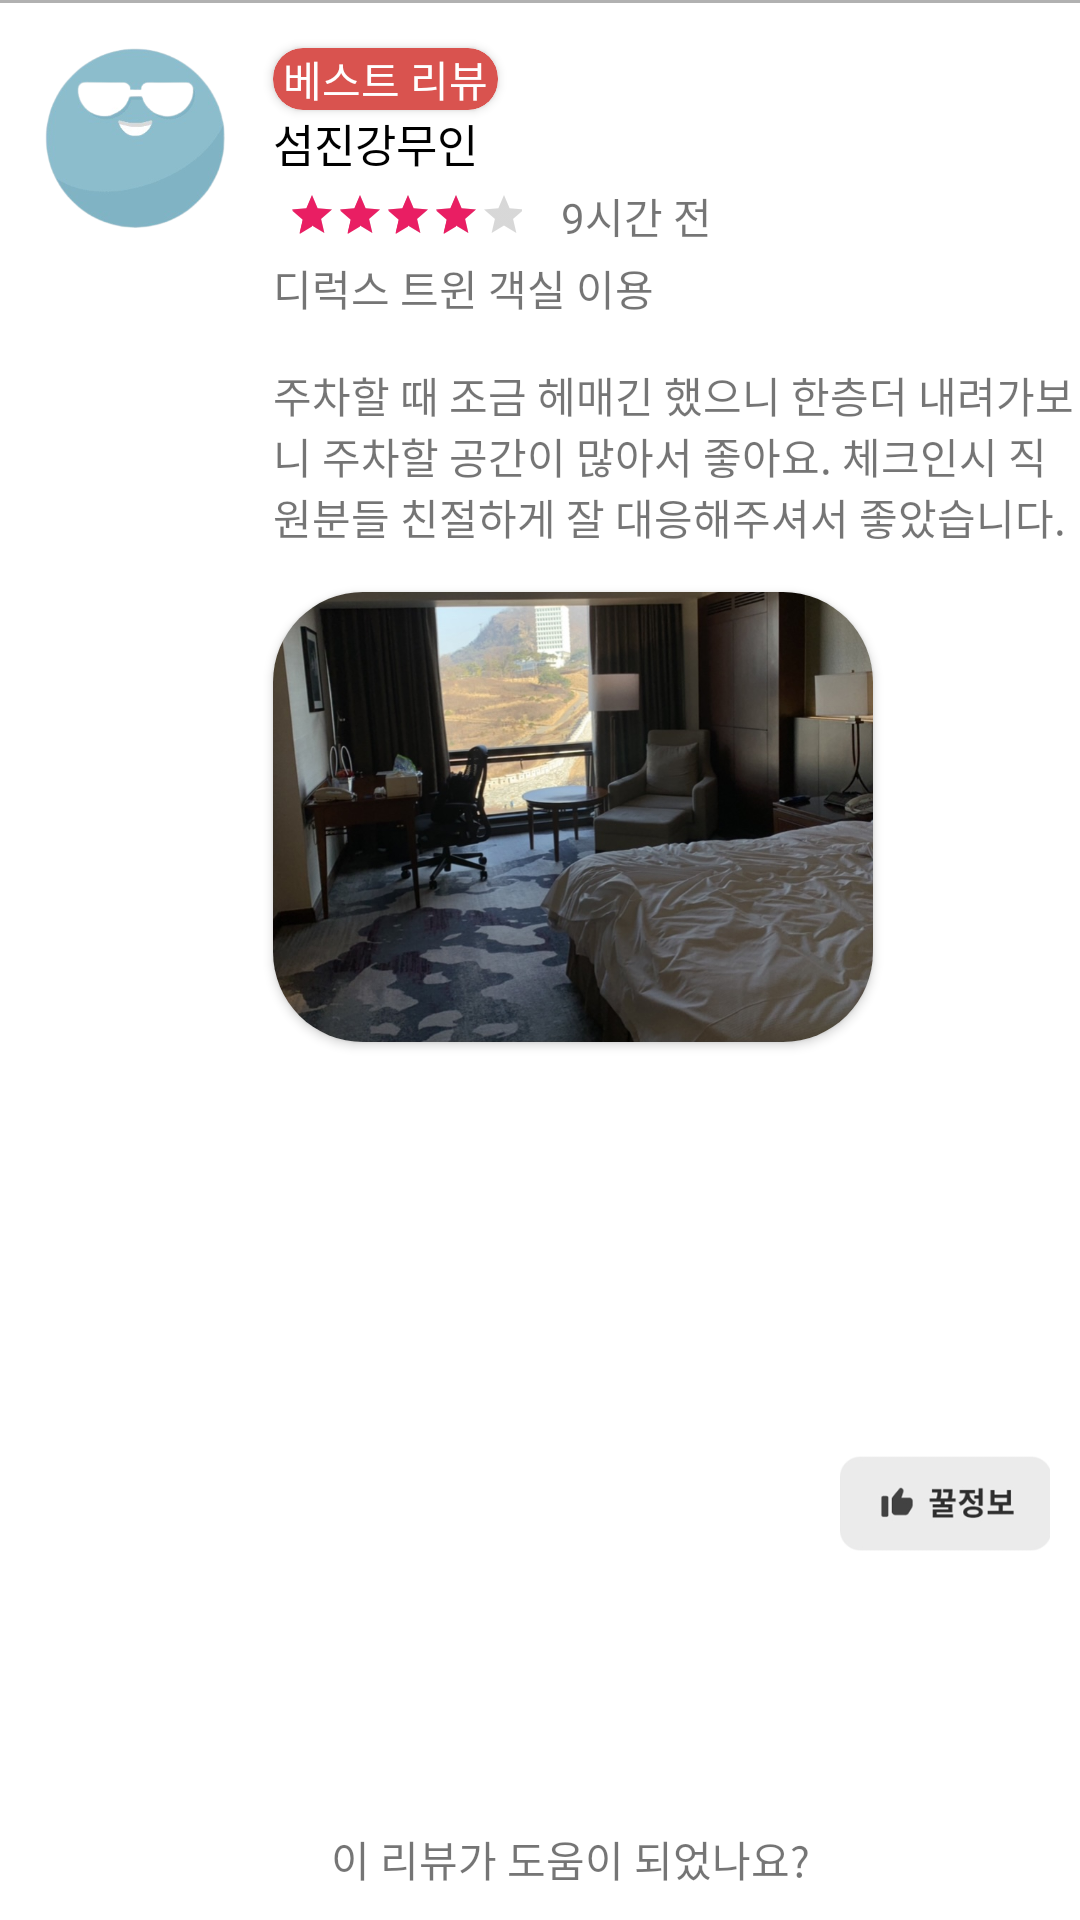

Named icons in this screenshot (1080px x 1920px) and their centers, (x,y):
profile: (135,138)
